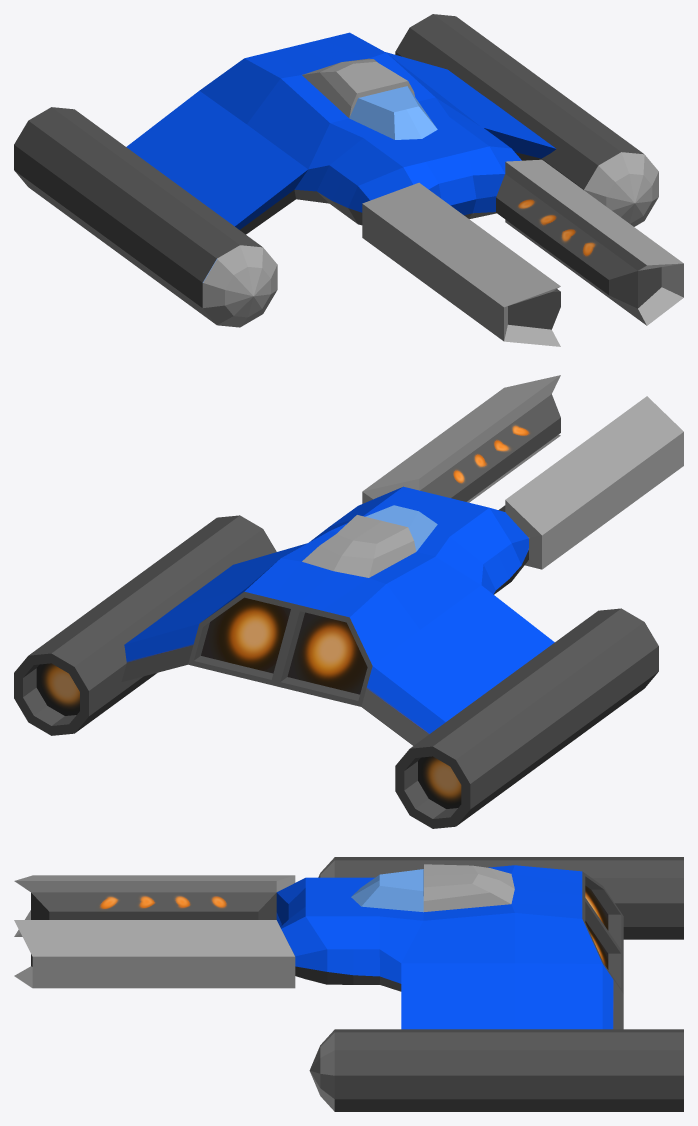
The model's file is HeavySpaceship.fbx.
The picture shows the model from 3 angles, top to bottom: view 1: azimuth 30°, elevation 25°; view 2: azimuth 150°, elevation 25°; view 3: azimuth 270°, elevation 25°; orthographic projection. The views are drawn at different scales.
Visible parts, largest first — view 1: ShipBody; view 2: ShipBody; view 3: ShipBody.
Boxes of the visible parts, box(x1,y1,x2,y2) form: ShipBody: box(14, 14, 683, 346); ShipBody: box(14, 375, 683, 828); ShipBody: box(14, 857, 683, 1111).
Bounding box in the file's own units: 663 × 223 × 911.
Materials: 1 (1 with a texture image).
